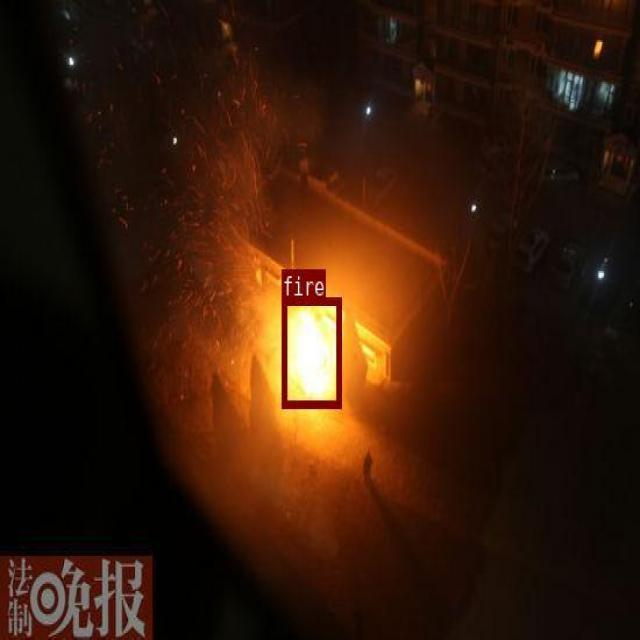fire: (281, 297, 340, 407)
